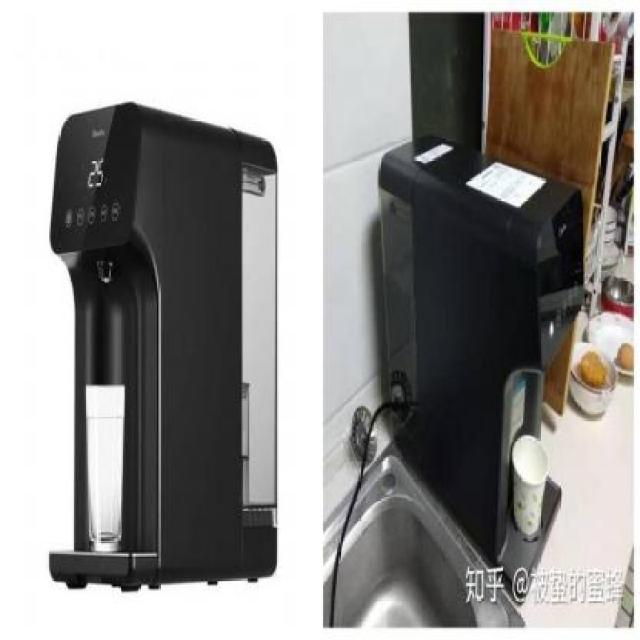cooler: (49, 103, 278, 596), (378, 135, 584, 604)
